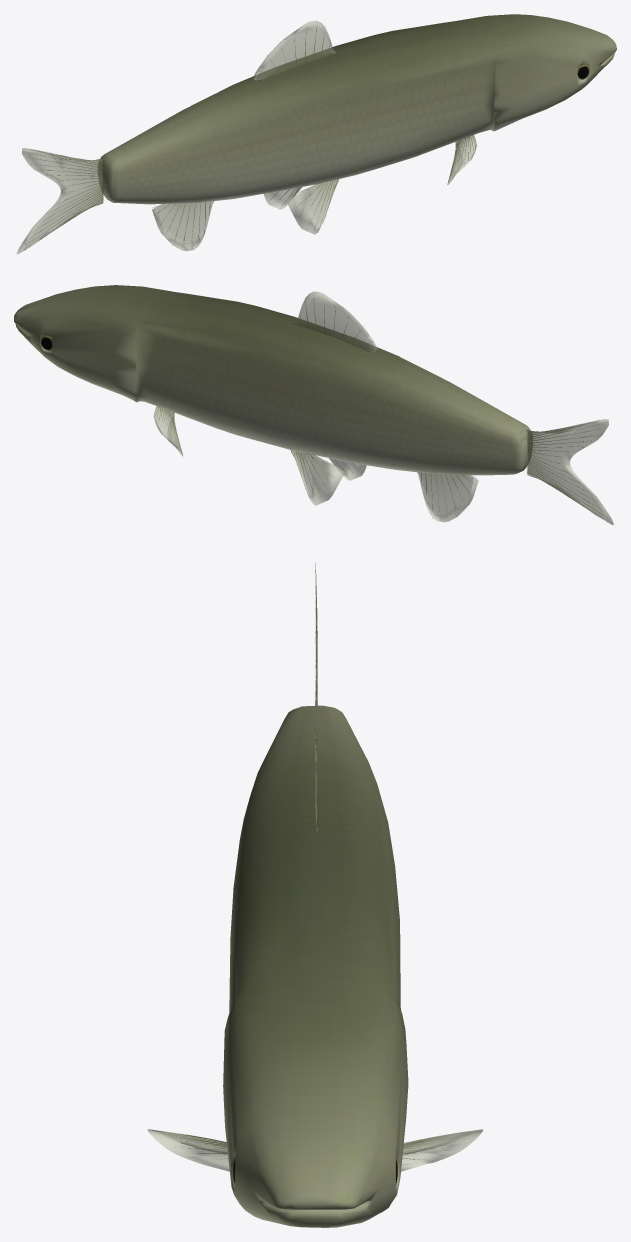
File: carp.glb
The picture shows the model from 3 angles, top to bottom: view 1: azimuth 30°, elevation 25°; view 2: azimuth 150°, elevation 25°; view 3: azimuth 270°, elevation 25°; orthographic projection. The views are drawn at different scales.
Visible parts, largest first — view 1: grass-carp-surface, Caudal reference fork, Dorsal reference membrane, Anal reference membrane, Pelvic rooted membrane -1, Caudal reference fork supports, Pectoral rooted membrane -1, Pelvic rooted membrane 1; view 2: grass-carp-surface, Caudal reference fork, Dorsal reference membrane, Anal reference membrane, Pelvic rooted membrane 1, Caudal reference fork supports, Pectoral rooted membrane 1, Pelvic rooted membrane -1; view 3: grass-carp-surface, Pectoral rooted membrane 1, Pectoral rooted membrane -1.
Boxes of the visible parts, box(x1,y1,x2,y2) form: grass-carp-surface: box(98, 14, 616, 204); Caudal reference fork: box(17, 148, 103, 253); Dorsal reference membrane: box(253, 20, 336, 79); Anal reference membrane: box(152, 201, 213, 251); Pelvic rooted membrane -1: box(286, 179, 338, 234); Caudal reference fork supports: box(26, 149, 103, 249); Pectoral rooted membrane -1: box(447, 135, 476, 184); Pelvic rooted membrane 1: box(264, 187, 301, 209); grass-carp-surface: box(14, 285, 532, 475); Caudal reference fork: box(527, 419, 613, 524); Dorsal reference membrane: box(294, 291, 377, 351); Anal reference membrane: box(418, 472, 478, 522); Pelvic rooted membrane 1: box(291, 450, 344, 505); Caudal reference fork supports: box(526, 420, 607, 521); Pectoral rooted membrane 1: box(153, 406, 182, 455); Pelvic rooted membrane -1: box(329, 458, 366, 480); grass-carp-surface: box(223, 705, 408, 1227); Pectoral rooted membrane 1: box(401, 1129, 482, 1171); Pectoral rooted membrane -1: box(148, 1129, 229, 1171).
Size of the model in its own units: 1.18 by 0.3822 by 0.2873.
Materials: 5 (2 with a texture image).
